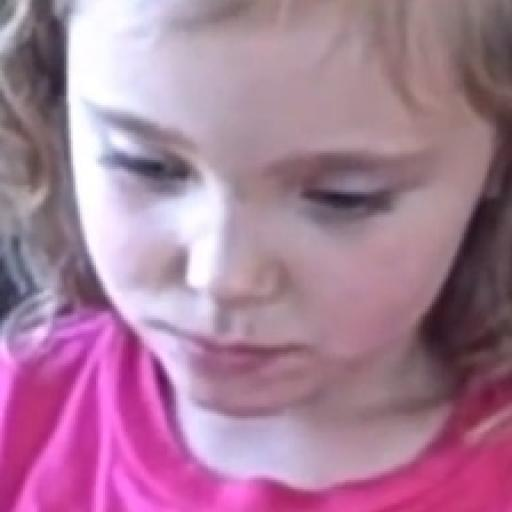Autism: (53, 2, 512, 442)
